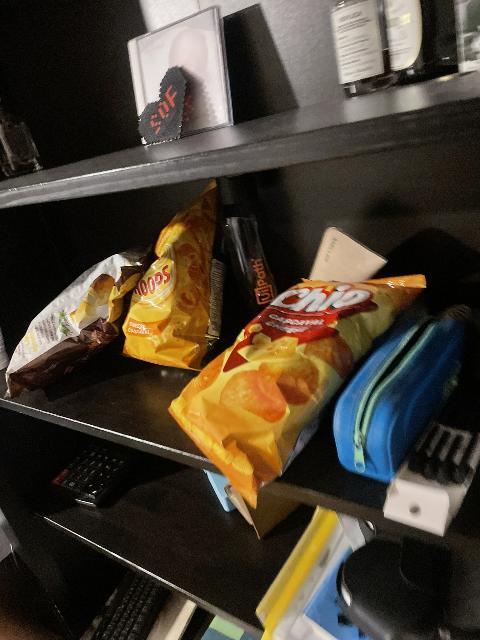Chio Cascaval 125g: (172, 272, 420, 509)
Chio Hula Hoops Cheese 70g: (121, 182, 223, 363)
Lays Beef Grilled Ribs 125g: (3, 249, 149, 397)
